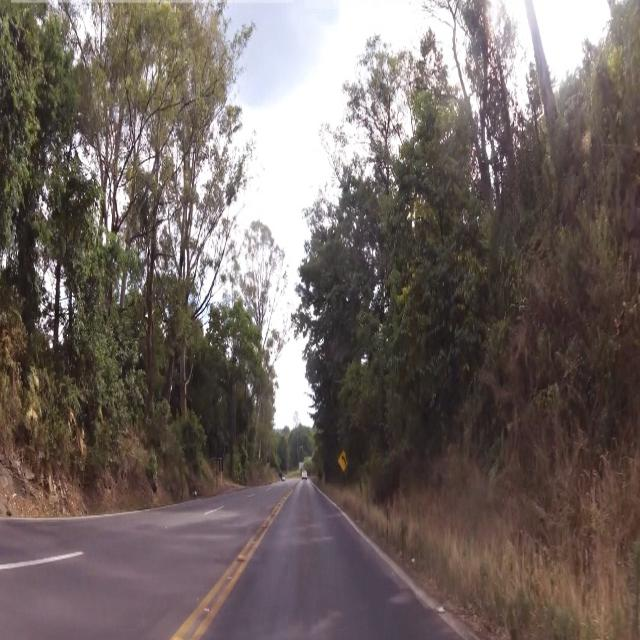A-2a: (338, 448, 350, 472)
